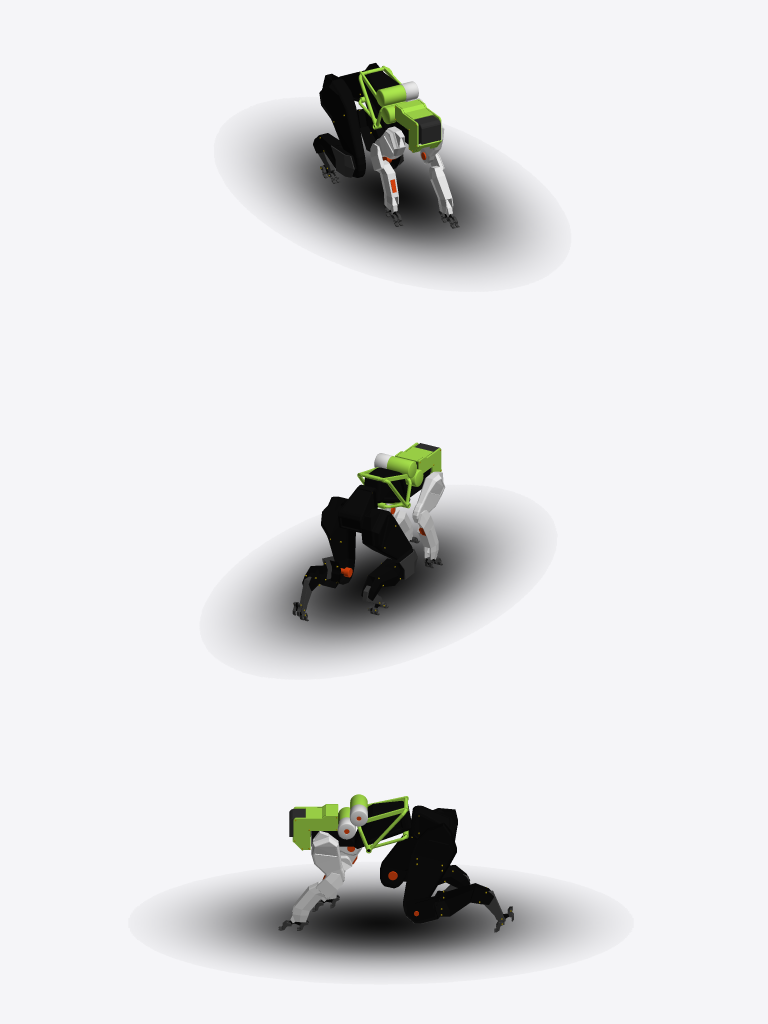
The picture shows the model from 3 angles, top to bottom: view 1: azimuth 30°, elevation 25°; view 2: azimuth 150°, elevation 25°; view 3: azimuth 270°, elevation 25°; orthographic projection.
Parts seen in each view (by area): view 1: shadow, Cube.009, Cube, Cube.008, Cube.007, Cube.012, Cube.006, Cube.003, Cube.001; view 2: shadow, Cube.009, Cube.005, Cube.008, Cube.004, Cube.003, Cube.006, Cube.010, Cube, Cube.007; view 3: shadow, Cube.005, Cube.010, Cube.003, Cube.009, Cube, Cube.011, Cube.012, Cube.004, Cylinder.006, Cube.008.
Part boxes in pixels (<box>): shadow: <box>251,117,532,270</box>; Cube.009: <box>319,73,365,177</box>; Cube: <box>395,99,441,152</box>; Cube.008: <box>313,133,356,177</box>; Cube.007: <box>370,143,398,209</box>; Cube.012: <box>428,153,453,213</box>; Cube.006: <box>375,126,405,159</box>; Cube.003: <box>364,71,399,130</box>; Cube.001: <box>414,115,440,144</box>; shadow: <box>237,505,519,658</box>; Cube.009: <box>361,508,412,560</box>; Cube.005: <box>321,496,355,584</box>; Cube.008: <box>361,548,417,600</box>; Cube.004: <box>337,484,377,532</box>; Cube.003: <box>364,467,410,503</box>; Cube.006: <box>412,471,445,523</box>; Cube.010: <box>302,556,340,590</box>; Cube: <box>395,442,441,473</box>; Cube.007: <box>417,510,438,559</box>; shadow: <box>182,875,579,970</box>; Cube.005: <box>403,822,456,921</box>; Cube.010: <box>405,883,493,923</box>; Cube.003: <box>354,801,411,848</box>; Cube.009: <box>380,808,457,888</box>; Cube: <box>292,804,338,850</box>; Cube.011: <box>311,831,344,881</box>; Cube.012: <box>292,872,343,922</box>; Cube.004: <box>410,805,454,839</box>; Cylinder.006: <box>357,797,407,849</box>; Cube.008: <box>403,865,469,887</box>.
Bounding box in the file's own units: 19.03 × 5.82 × 33.04.
10 materials, 1 textured.
